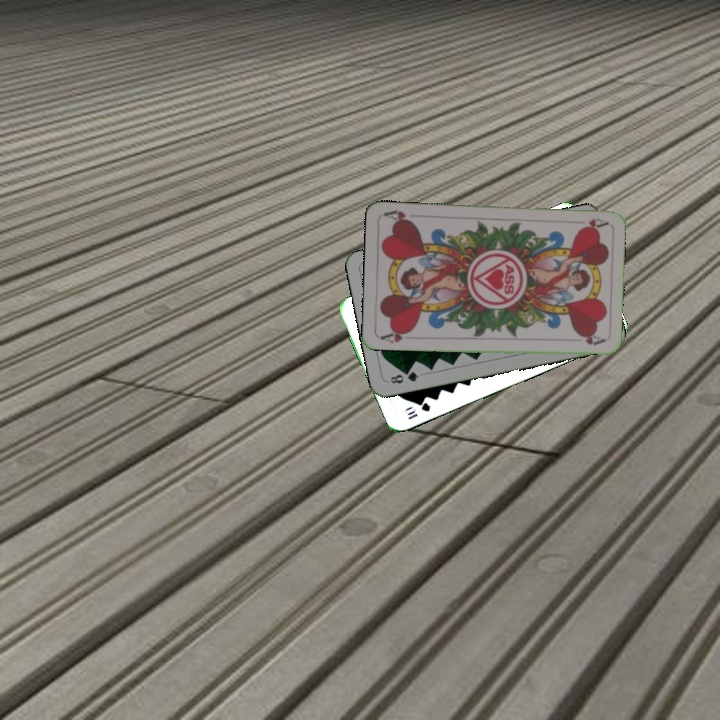G10: (404, 398, 433, 422)
G8: (386, 367, 422, 386)
HA: (376, 326, 415, 345), (569, 214, 610, 232)
